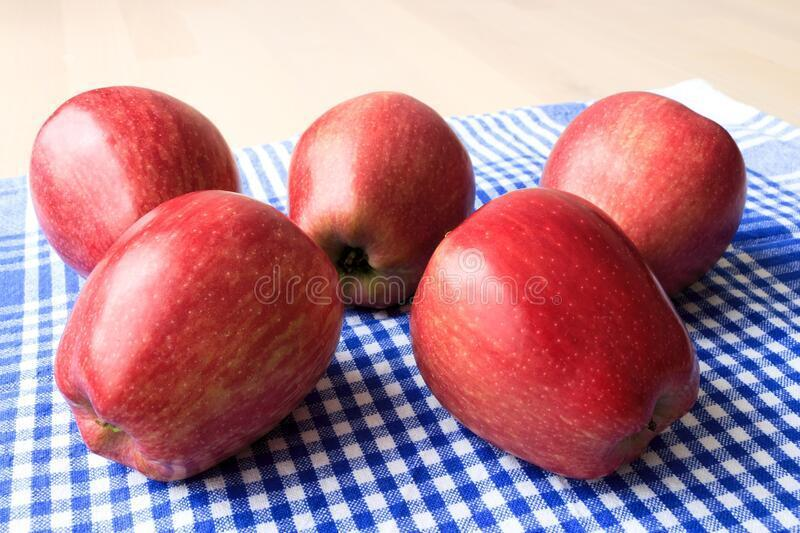apple: (52, 186, 344, 482), (407, 188, 695, 479), (531, 88, 743, 298), (24, 84, 244, 276), (279, 88, 472, 305)
